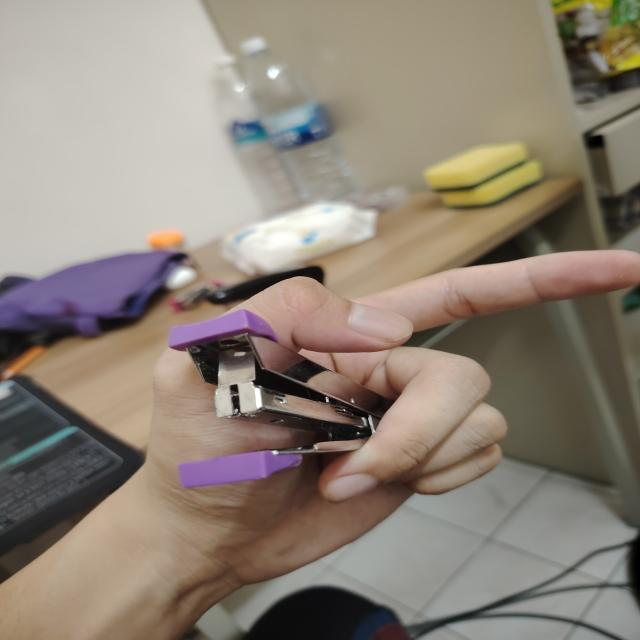stapler: (169, 311, 386, 488)
